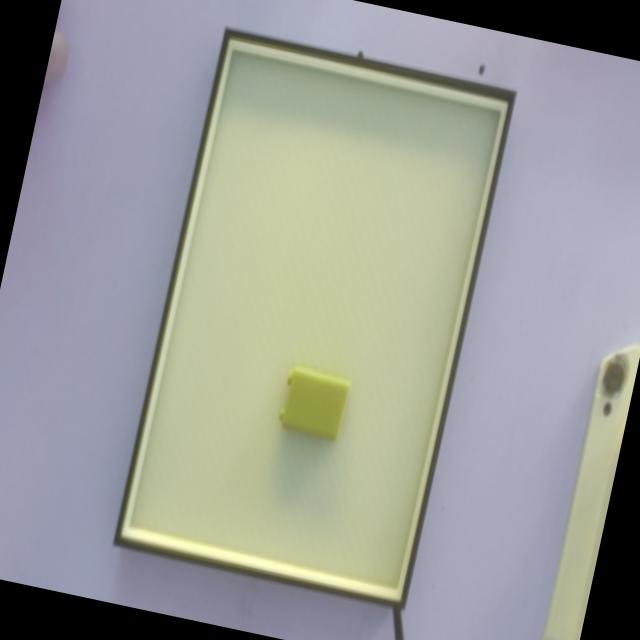bateria: (278, 366, 350, 443)
mesa: (112, 26, 516, 609)
